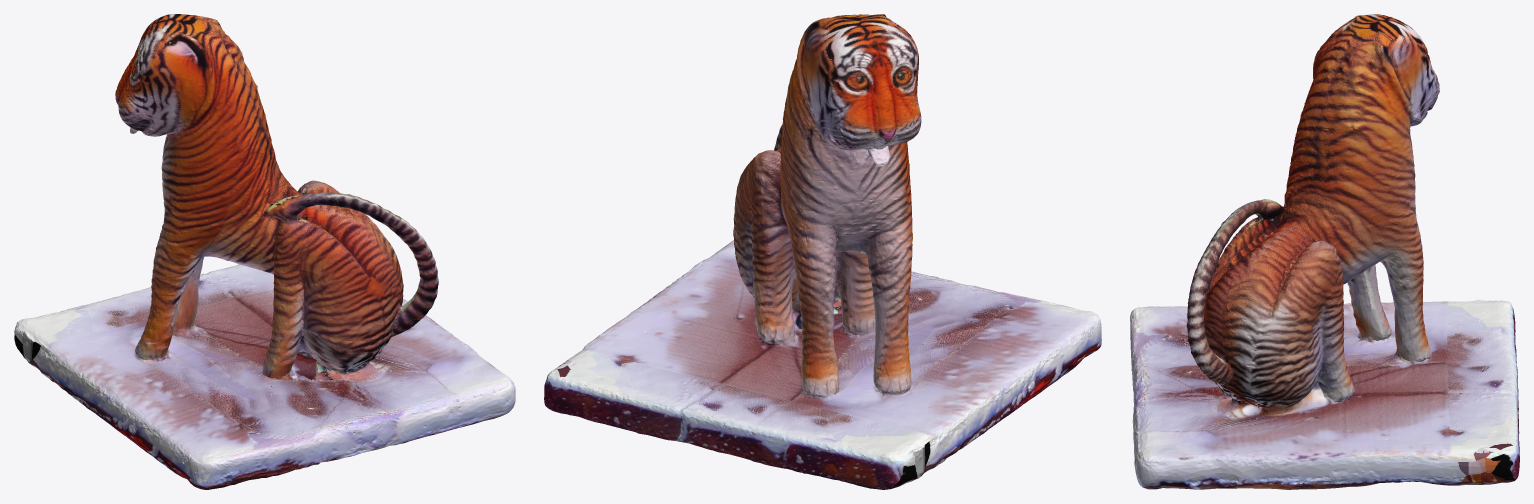
Rendered from textured_ours.glb.
3 views of the same model, side by side, from view 1: azimuth 30°, elevation 25°; view 2: azimuth 150°, elevation 25°; view 3: azimuth 270°, elevation 25° (orthographic). The views are drawn at different scales.
Parts seen in each view (by area): view 1: Node; view 2: Node; view 3: Node.
Boxes of the visible parts, x1,y1,x2,y2 form: Node: [14, 14, 515, 489]; Node: [544, 14, 1101, 489]; Node: [1130, 14, 1519, 489].
Bounding box in the file's own units: 1.9 × 2 × 1.95.
1 material, 1 textured.
